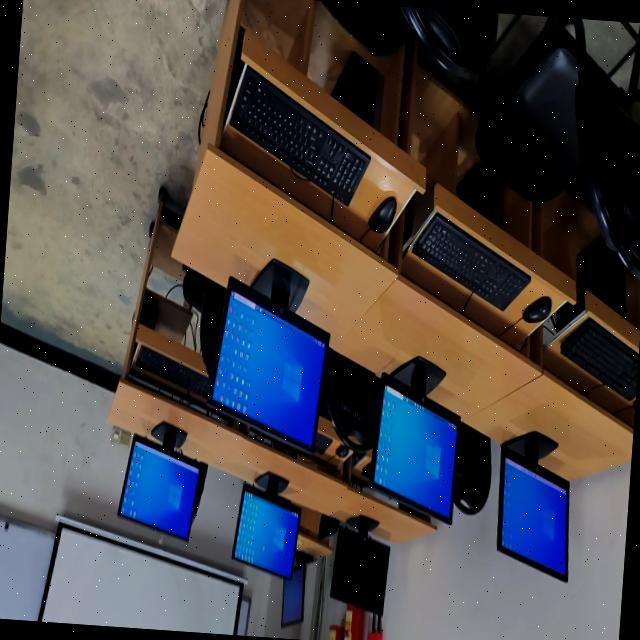Chair: (474, 15, 640, 279), (320, 0, 496, 75), (324, 349, 379, 454), (181, 264, 224, 376), (452, 421, 490, 513), (189, 461, 206, 523)
Cpu: (550, 236, 625, 330), (330, 51, 381, 127), (455, 162, 502, 225)
Fire Extinguisher: (343, 603, 363, 640), (327, 624, 343, 640)
Keyboard: (223, 63, 369, 203), (411, 212, 529, 309), (559, 317, 638, 397), (135, 345, 208, 397), (313, 432, 330, 453)
Monitor: (208, 257, 328, 452), (368, 355, 458, 523), (495, 430, 568, 580), (116, 421, 201, 539), (231, 473, 299, 578), (329, 514, 388, 615), (279, 550, 313, 627)
Mouse: (367, 196, 395, 231), (521, 295, 550, 321), (334, 444, 350, 458)
